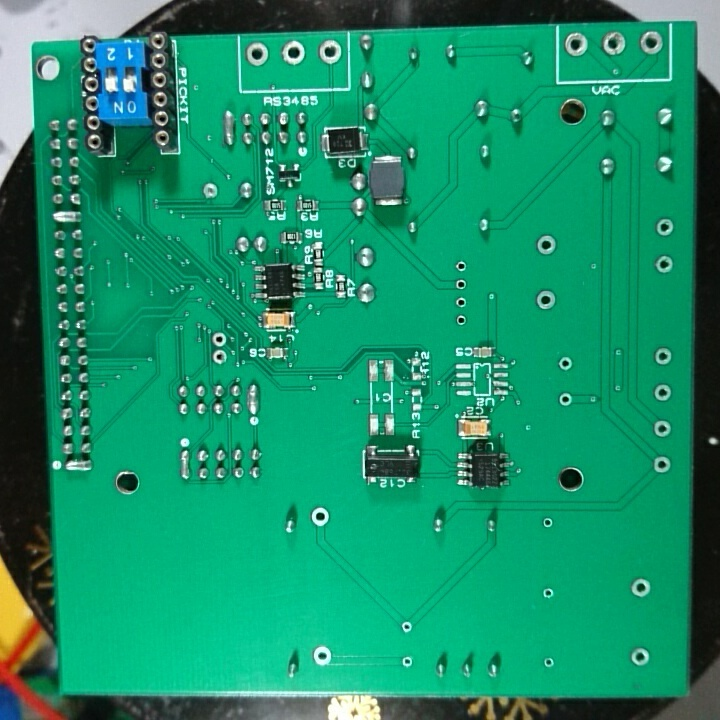F: (597, 27, 629, 59), (315, 36, 344, 70), (241, 40, 272, 71), (562, 29, 591, 61), (637, 27, 666, 59), (278, 37, 308, 67), (533, 229, 559, 260), (628, 644, 652, 673), (533, 286, 557, 315), (310, 642, 334, 669), (307, 502, 330, 529), (628, 576, 653, 600), (653, 252, 675, 279), (653, 215, 676, 240), (652, 381, 674, 406), (649, 453, 672, 476), (651, 417, 674, 440), (201, 179, 223, 203), (653, 344, 674, 369), (555, 352, 576, 376), (207, 328, 231, 349), (450, 309, 470, 332), (555, 389, 575, 411), (450, 256, 472, 275), (450, 291, 470, 311), (450, 275, 471, 292), (210, 350, 231, 367), (541, 654, 559, 672), (539, 585, 556, 604), (399, 650, 414, 671), (541, 514, 556, 535), (399, 618, 416, 636)
P: (244, 380, 264, 418), (220, 105, 236, 149), (50, 209, 83, 227), (62, 458, 96, 475), (179, 446, 193, 483)
